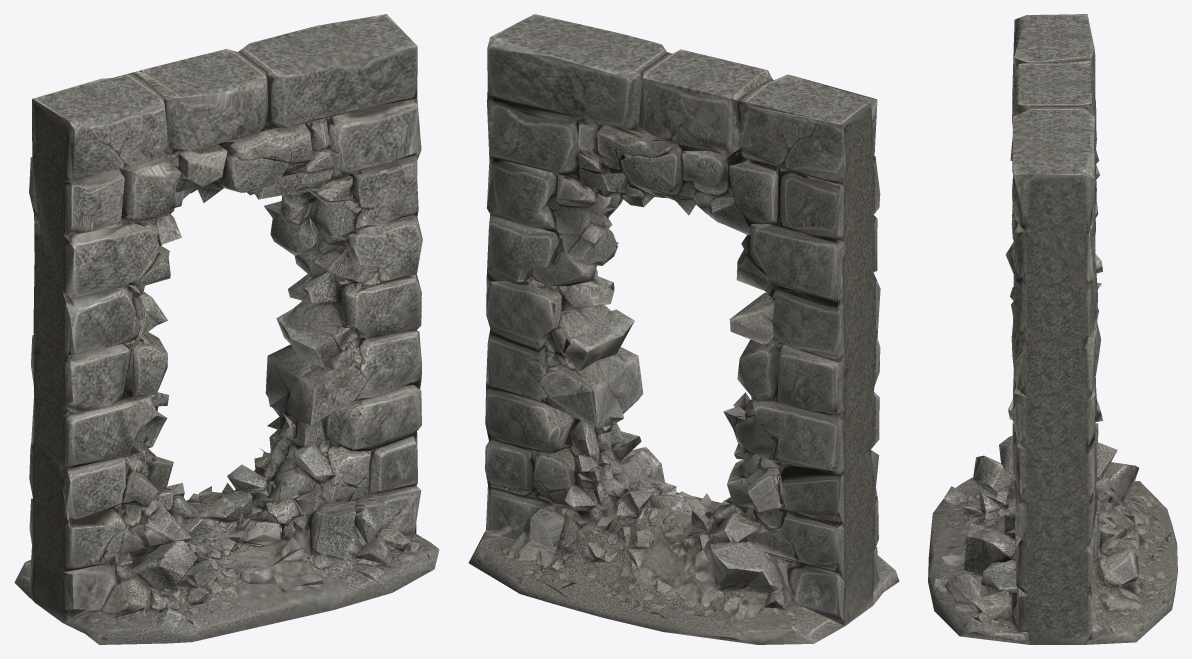
Rendered from blk_fort_wall_broken.glb.
3 renders of one model, left to right at view 1: azimuth 30°, elevation 25°; view 2: azimuth 150°, elevation 25°; view 3: azimuth 270°, elevation 25°, orthographic. The views are drawn at different scales.
Visible parts, largest first — view 1: Mesh_0; view 2: Mesh_0; view 3: Mesh_0.
Part boxes in pixels (x1=…): Mesh_0: x1=14, y1=14, x2=439, y2=644; Mesh_0: x1=468, y1=14, x2=899, y2=644; Mesh_0: x1=928, y1=14, x2=1177, y2=644.
Size of the model in its own units: 1.4 by 1.9 by 0.915.
Materials: 1 (1 with a texture image).
